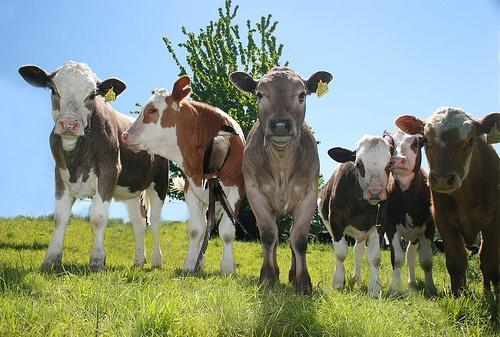tampered: (195, 26, 292, 273)
